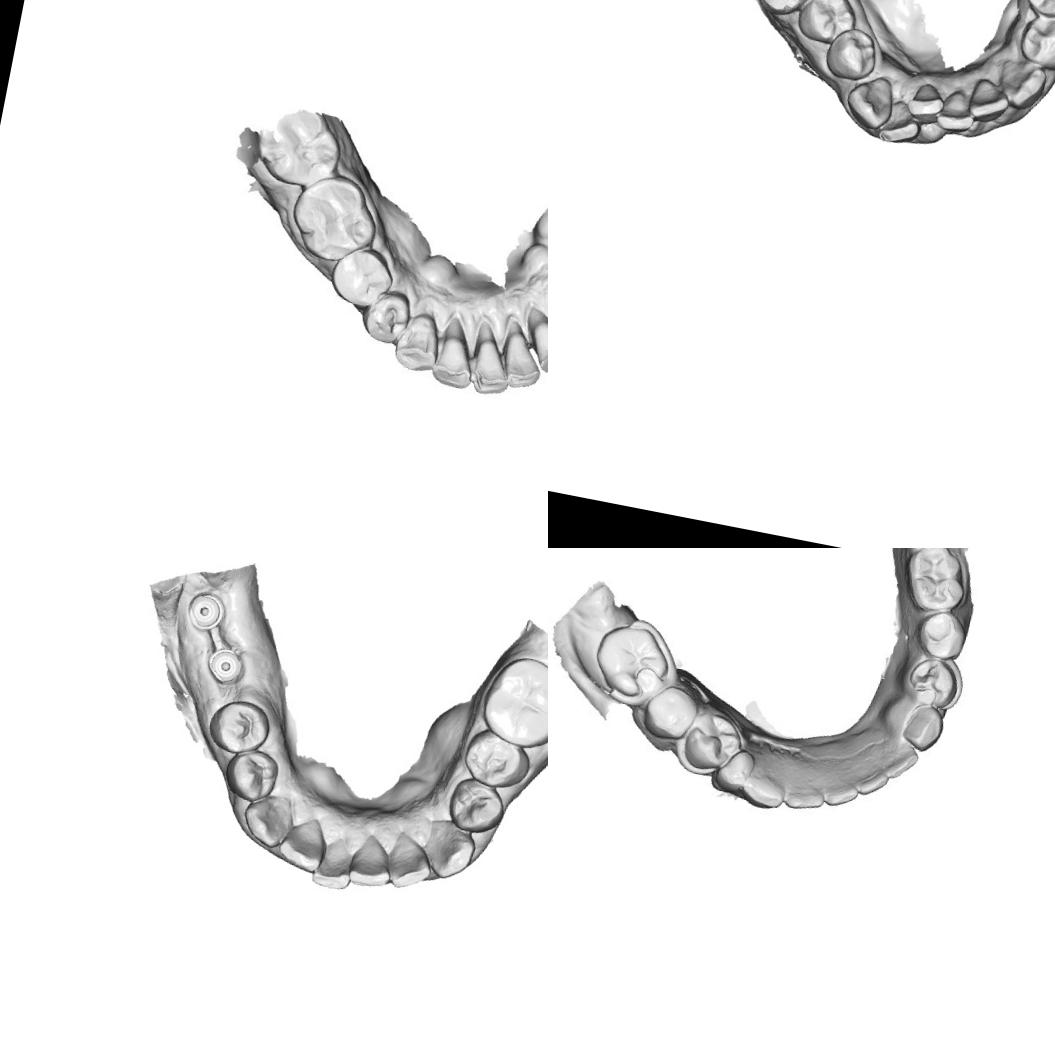canine: (412, 814, 481, 886), (237, 790, 297, 851), (390, 308, 444, 374), (842, 70, 898, 132), (992, 56, 1050, 114), (892, 702, 956, 752), (735, 759, 787, 814)
implant: (181, 586, 229, 634), (201, 641, 248, 688)
incisor: (429, 314, 482, 390), (381, 828, 438, 896), (273, 810, 330, 877), (466, 328, 518, 400), (343, 828, 397, 892), (812, 754, 871, 812), (497, 327, 548, 393), (306, 832, 359, 894), (844, 751, 894, 804), (875, 96, 925, 148), (780, 762, 827, 816), (965, 75, 1012, 126), (932, 86, 978, 136), (904, 80, 948, 127), (878, 740, 922, 784), (525, 319, 548, 377)
inlay: (908, 660, 952, 707)
molar: (284, 166, 384, 268), (248, 101, 347, 192), (588, 614, 678, 705), (473, 647, 548, 755), (900, 548, 972, 616), (739, 0, 829, 22)
premolar: (456, 726, 536, 794), (325, 241, 398, 310), (201, 693, 274, 760), (440, 771, 510, 839), (679, 710, 742, 778), (638, 684, 702, 749), (219, 744, 282, 807), (822, 23, 880, 84), (356, 284, 413, 346), (793, 0, 860, 47), (1014, 11, 1055, 73), (916, 606, 966, 656)
